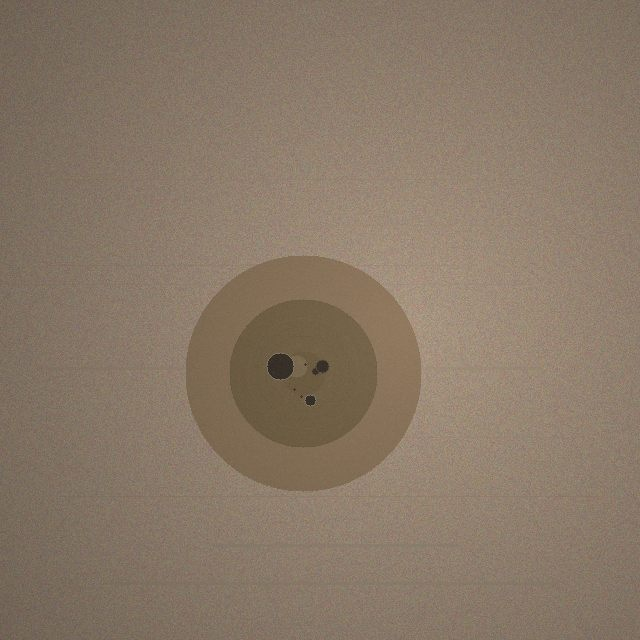shrinkage: (185, 255, 421, 491)
